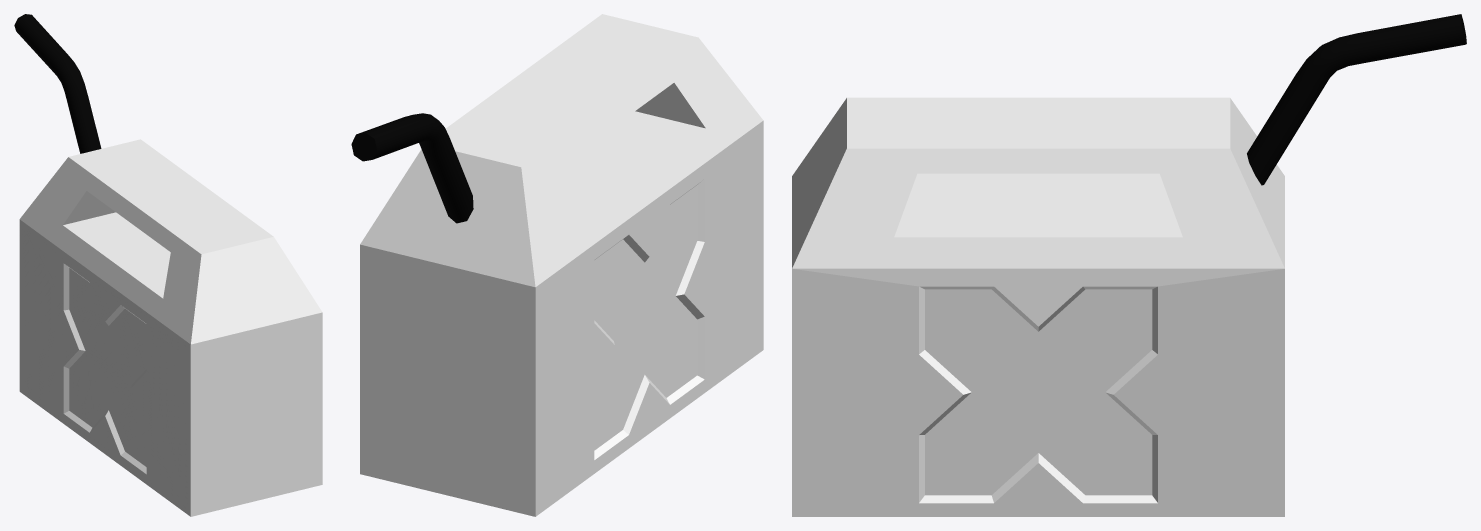
The model's file is Canister.obj.
3 renders of one model, left to right at view 1: azimuth 30°, elevation 25°; view 2: azimuth 150°, elevation 25°; view 3: azimuth 270°, elevation 25°, orthographic. The views are drawn at different scales.
Parts seen in each view (by area): view 1: Canister; view 2: Canister; view 3: Canister.
Part boxes in pixels (x1,y1,x2,y2): Canister: [14, 14, 322, 516]; Canister: [351, 14, 763, 516]; Canister: [792, 14, 1466, 516].
Size of the model in its own units: 0.4036 by 0.9187 by 1.23.
1 material, 1 textured.
